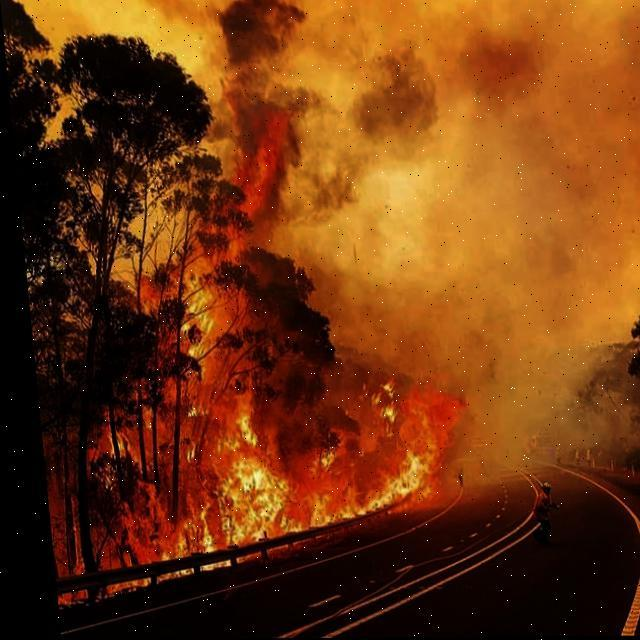Fire: (103, 112, 449, 561)
